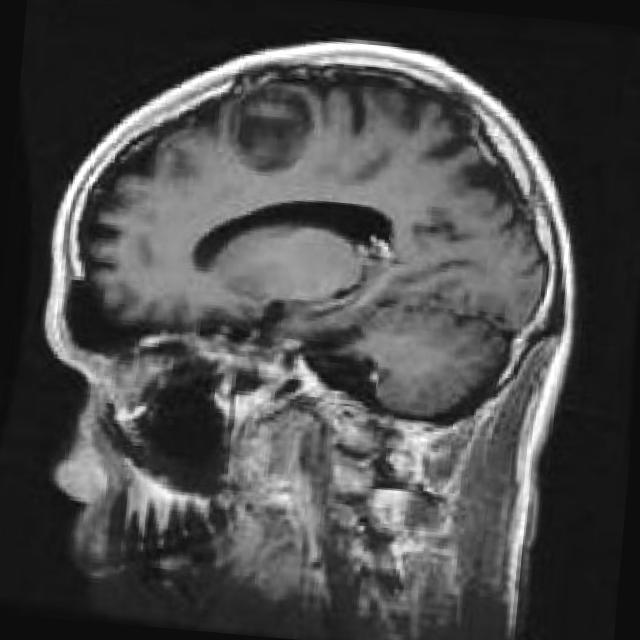MCI: (230, 75, 326, 182)
